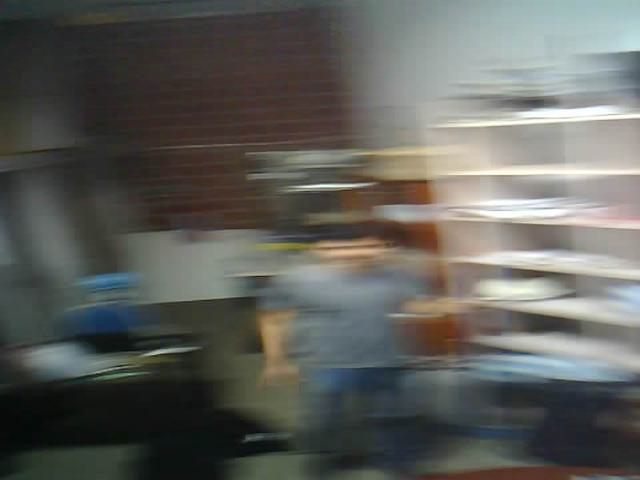person: (251, 180, 483, 480)
